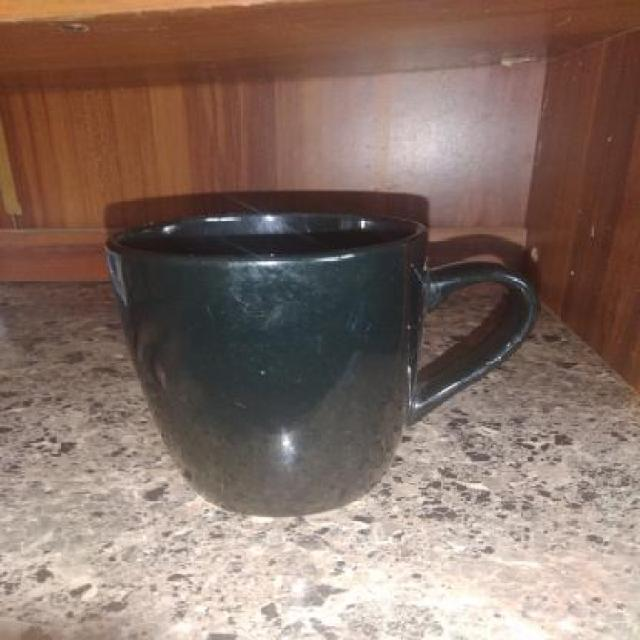cup: (88, 207, 547, 525)
